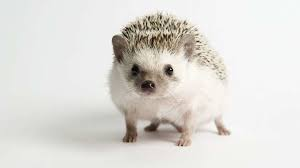hedgehog: (105, 11, 233, 146)
